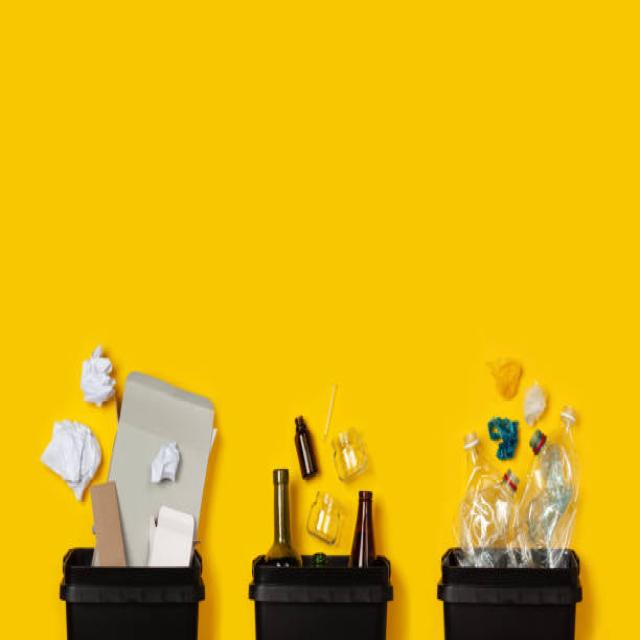cardboard: (44, 344, 202, 550)
glass: (260, 400, 374, 557)
plastic: (450, 356, 575, 552)
